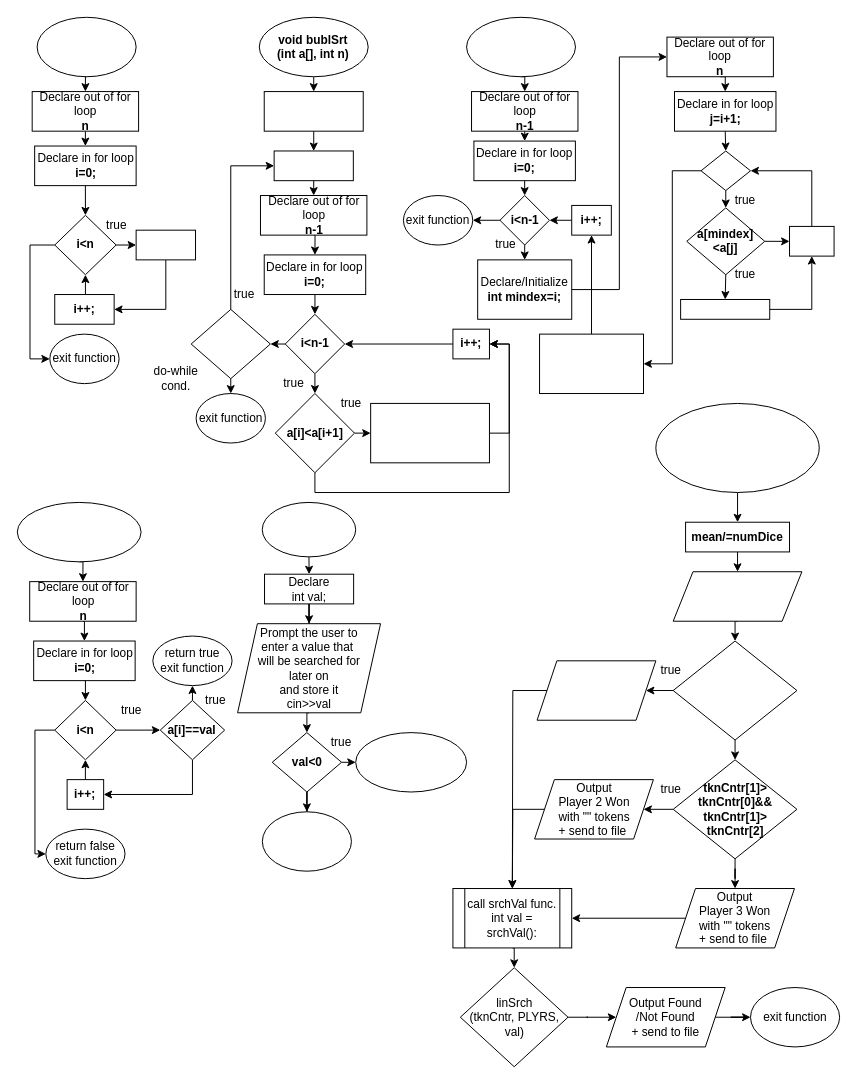
Image size: 857x1084. Some labels were removed from this diagram. The shapes that lost their labels are listed below. From the top down, each one's centre as x and y in pixels, then its label:
the point at 86,46: void cpyLst (int a[],int b[], int n)
the point at 520,46: void selcSrt (int a[], int n)
the point at 313,111: Declare bool swap;
the point at 313,165: swap=false;
the point at 725,170: j<n
the point at 165,244: b[i]=a[i];
the point at 811,240: j++;
the point at 725,308: mindex=j;
the point at 230,343: swap==true
the point at 591,363: int temp=a[i]; a[i]=a[mindex]; a[mindex]=temp;
the point at 429,432: a[i]=a[i]^a[i+1]; a[i+1]=a[i]^a[i+1]; a[i]=a[i]^a[i+1]; swap=true;
the point at 737,447: void dsply (fstream &out, int tknCntr[], int PLYRS, float mean, int numDice)
the point at 78,531: bool linSrch (int a[],int n,int val)
the point at 308,529: int srchVal()
the point at 737,596: Output the mean + send to file
the point at 596,690: Output Player 1 Won with "" tokens + send to file
the point at 734,690: tknCntr[0]> tknCntr[1]&& tknCntr[0]> tknCntr[2]
the point at 411,762: call exit function terminate function
the point at 306,841: return val; exit function
